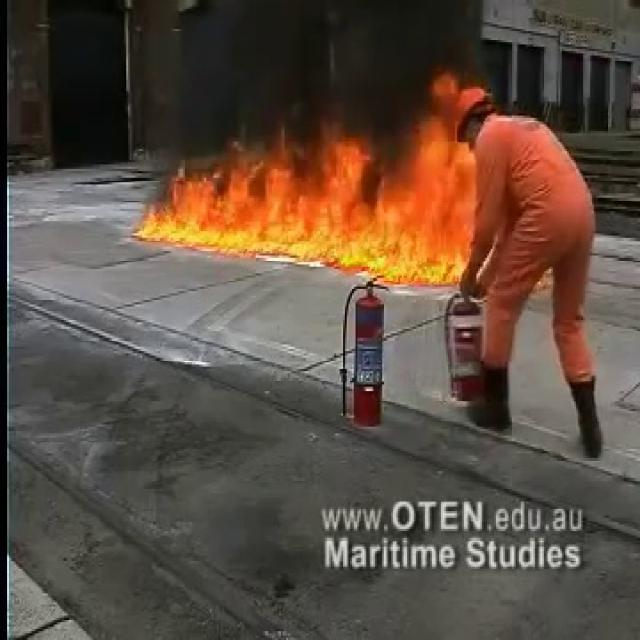Fire: (132, 120, 494, 282)
Smoke: (2, 0, 508, 147), (151, 0, 510, 144)
